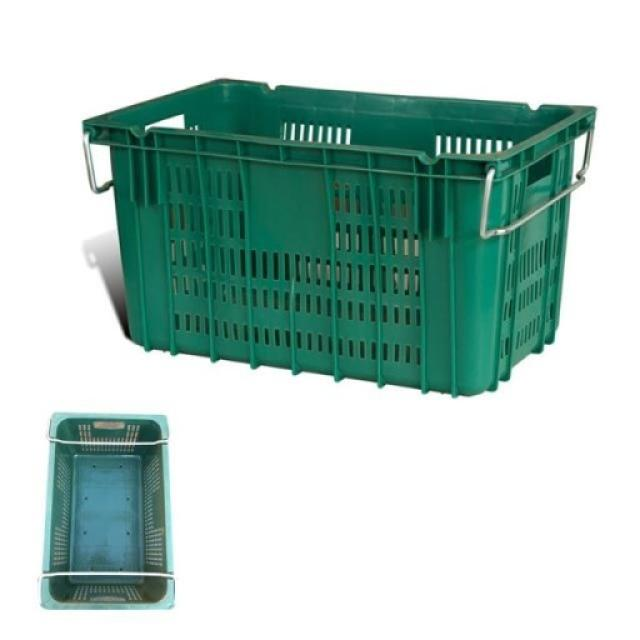basket: (66, 69, 596, 403), (40, 413, 175, 611)
